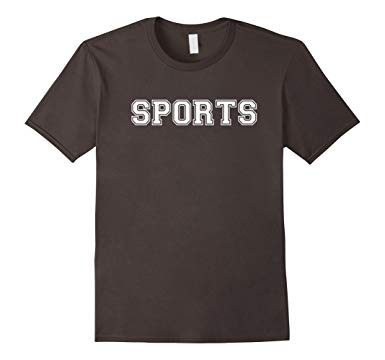T-Shirt: (21, 12, 364, 347)
